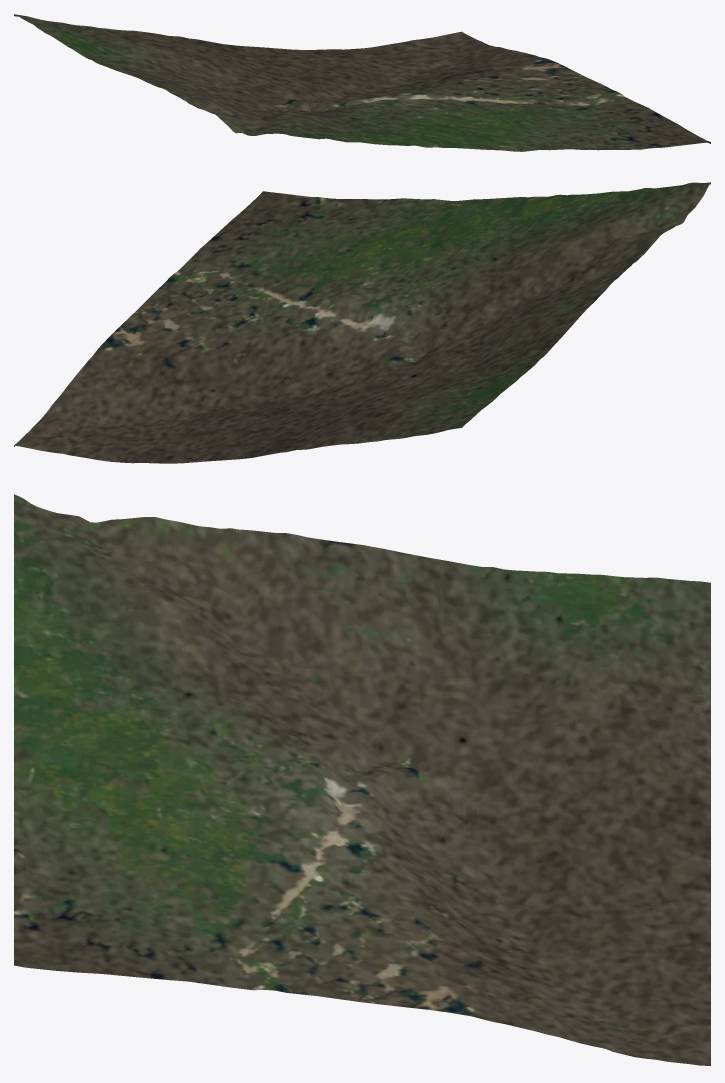
3 views of the same model, one above another, from view 1: azimuth 30°, elevation 25°; view 2: azimuth 150°, elevation 25°; view 3: azimuth 270°, elevation 25° (orthographic). The views are drawn at different scales.
Bounding box in the file's own units: 250 × 102 × 241.
1 material, 1 textured.
